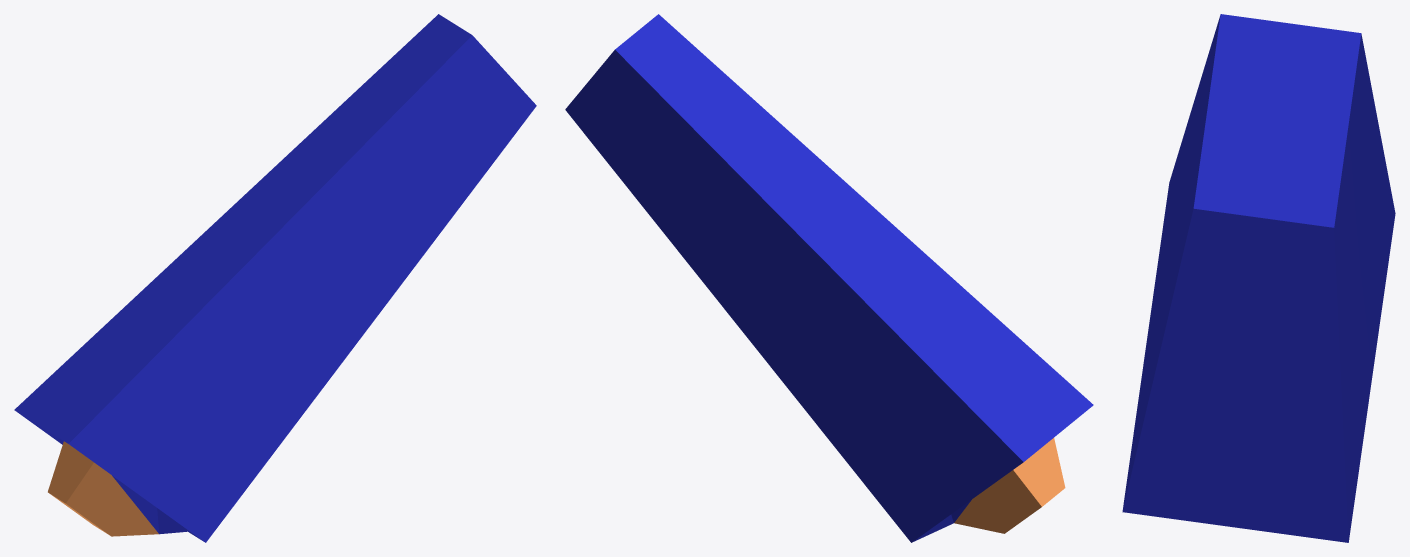
File: arm_R.obj
The picture shows the model from 3 angles, left to right: view 1: azimuth 30°, elevation 25°; view 2: azimuth 150°, elevation 25°; view 3: azimuth 270°, elevation 25°; orthographic projection. The views are drawn at different scales.
Visible parts, largest first — view 1: arm_R; view 2: arm_R; view 3: arm_R.
Boxes of the visible parts, bbox=[...] form: arm_R: bbox=[14, 14, 536, 542]; arm_R: bbox=[565, 14, 1093, 542]; arm_R: bbox=[1122, 14, 1395, 542].
Bounding box in the file's own units: 0.6581 × 0.5633 × 0.1779.
